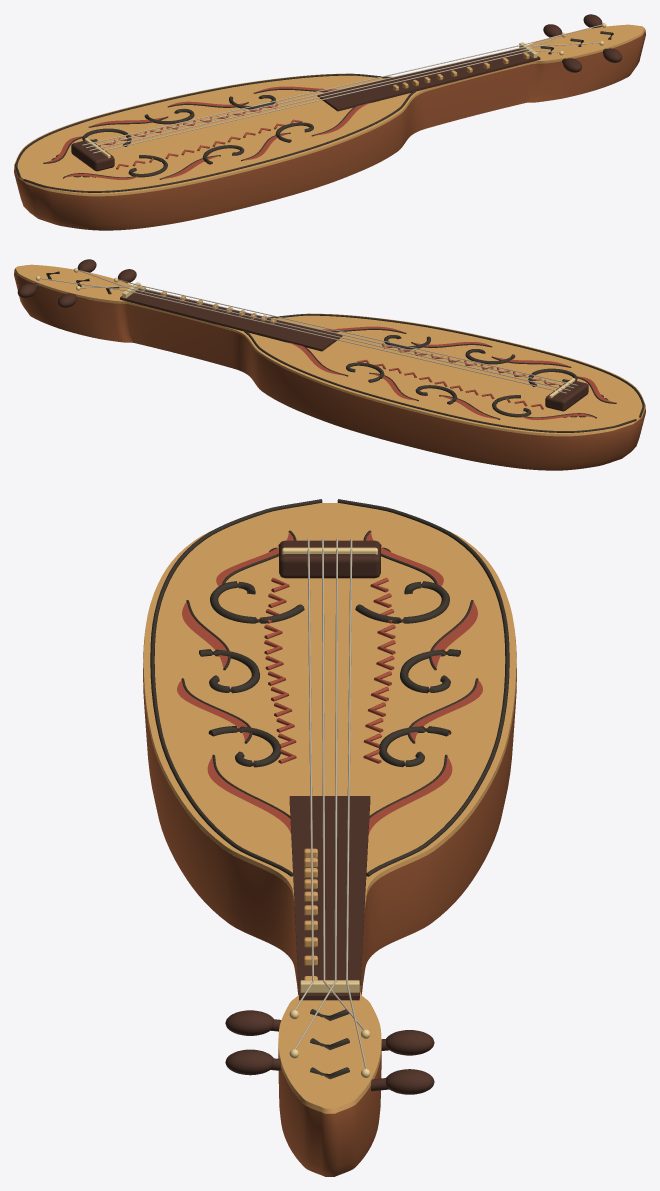
3 views of the same model, one above another, from view 1: azimuth 30°, elevation 25°; view 2: azimuth 150°, elevation 25°; view 3: azimuth 270°, elevation 25° (orthographic). The views are drawn at different scales.
Visible parts, largest first — view 1: Carved body, Scroll inlays, Strings and frets, Fingerboard, Headstock; view 2: Carved body, Scroll inlays, Strings and frets, Fingerboard, Headstock; view 3: Carved body, Scroll inlays, Fingerboard, Strings and frets, Headstock.
Part boxes in pixels (x1,y1,x2,y2): Carved body: [14, 24, 645, 230]; Scroll inlays: [15, 31, 613, 192]; Strings and frets: [71, 24, 601, 171]; Fingerboard: [317, 48, 540, 111]; Headstock: [543, 14, 622, 72]; Carved body: [14, 264, 645, 470]; Scroll inlays: [46, 271, 644, 432]; Strings and frets: [39, 269, 588, 411]; Fingerboard: [120, 288, 342, 351]; Headstock: [17, 259, 136, 307]; Carved body: [143, 503, 516, 1176]; Scroll inlays: [150, 499, 509, 1079]; Fingerboard: [289, 796, 370, 1000]; Strings and frets: [279, 538, 380, 1068]; Headstock: [225, 1010, 434, 1094].
Size of the model in its own units: 1.21 by 0.0999 by 0.3145.
